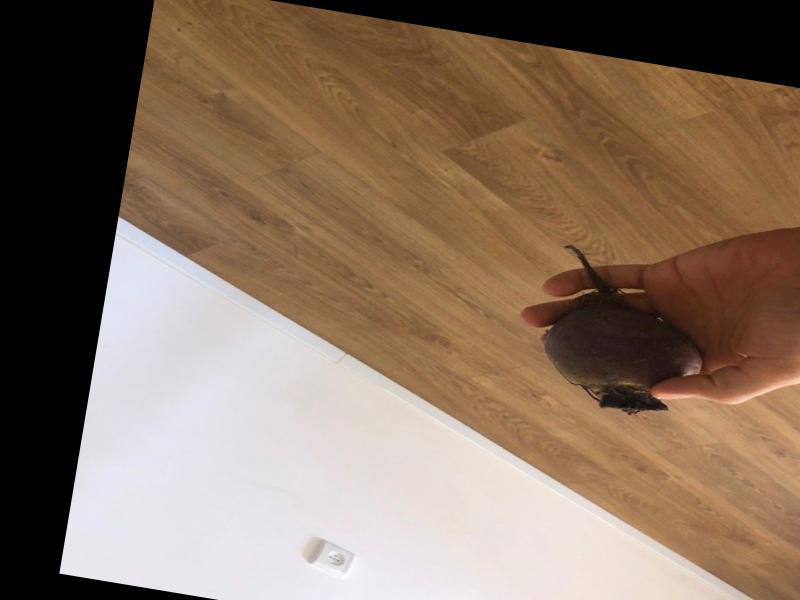Beet: (531, 242, 717, 421)
